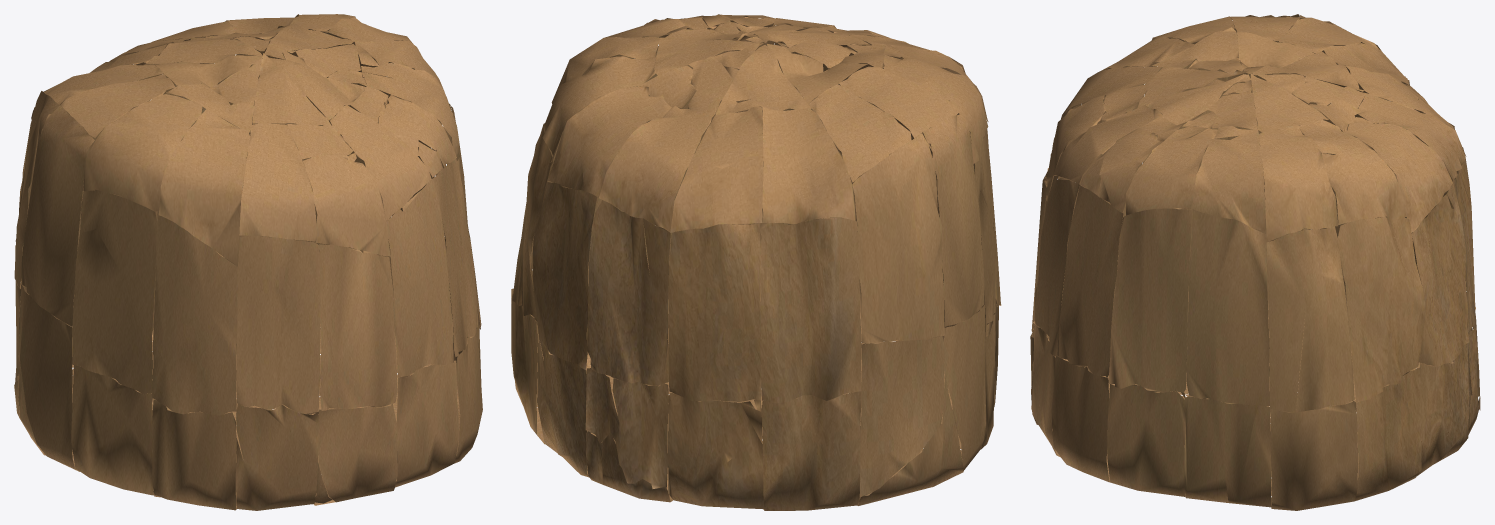
File: shore_rock.glb
The picture shows the model from 3 angles, left to right: view 1: azimuth 30°, elevation 25°; view 2: azimuth 150°, elevation 25°; view 3: azimuth 270°, elevation 25°; orthographic projection. The views are drawn at different scales.
Visible parts, largest first — view 1: shore_rock; view 2: shore_rock; view 3: shore_rock.
Part boxes in pixels (x1=…): shore_rock: x1=14, y1=14, x2=482, y2=510; shore_rock: x1=511, y1=14, x2=1001, y2=510; shore_rock: x1=1030, y1=14, x2=1480, y2=510.
Size of the model in its own units: 2.06 by 1.72 by 2.
Materials: 1 (1 with a texture image).
